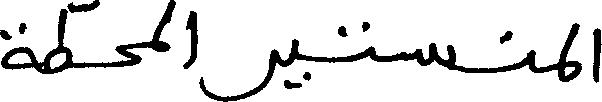X: (229, 45, 273, 101), (0, 18, 36, 74), (47, 0, 69, 78), (560, 18, 581, 86), (419, 38, 455, 74), (153, 0, 176, 56), (115, 38, 139, 71), (363, 17, 376, 65), (189, 6, 197, 71), (594, 23, 601, 87), (291, 34, 297, 93), (526, 45, 536, 77)
